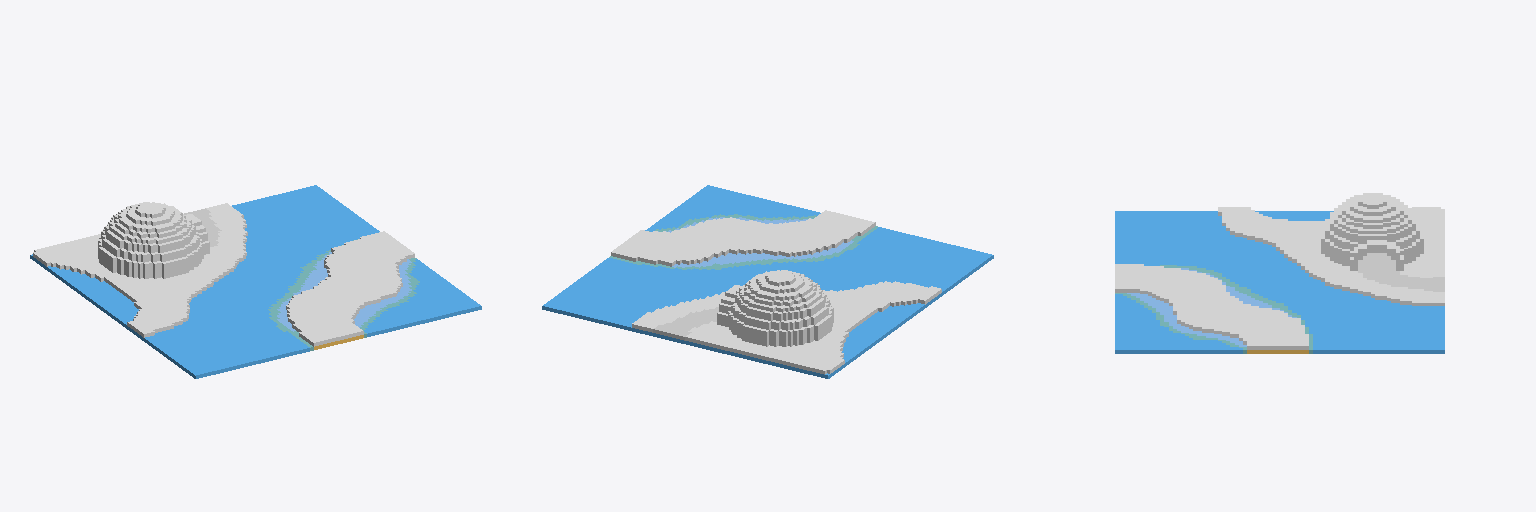
The picture shows the model from 3 angles: view 1: azimuth 30°, elevation 25°; view 2: azimuth 150°, elevation 25°; view 3: azimuth 270°, elevation 25°; orthographic projection.
Parts seen in each view (by area): view 1: iceCorner; view 2: iceCorner; view 3: iceCorner.
Boxes of the visible parts, <box> form: iceCorner: <box>30,185,481,378</box>; iceCorner: <box>542,185,993,378</box>; iceCorner: <box>1115,193,1444,353</box>.
Bounding box in the file's own units: 80 × 15 × 80.
Materials: 1 (1 with a texture image).